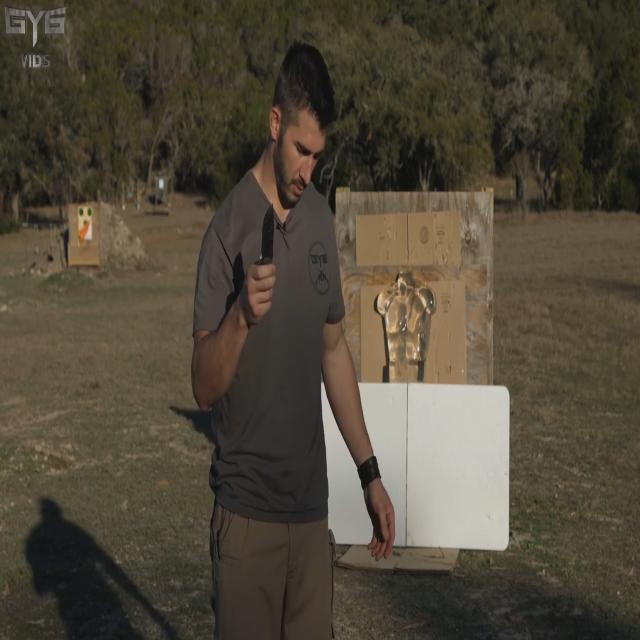knife: (257, 203, 280, 273)
